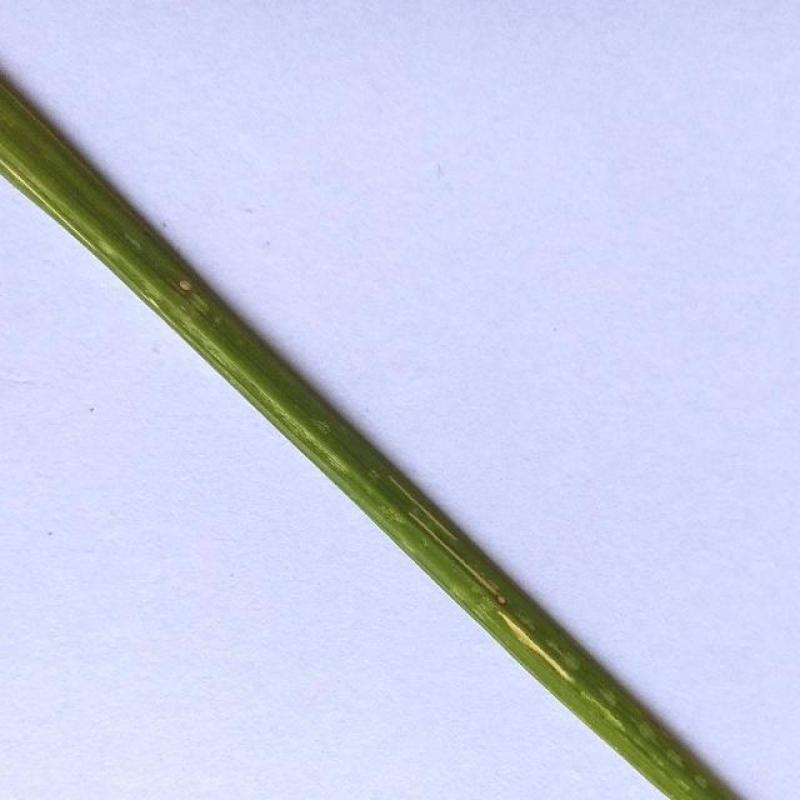Leaf_Blast: (489, 600, 605, 711), (165, 268, 205, 306)
